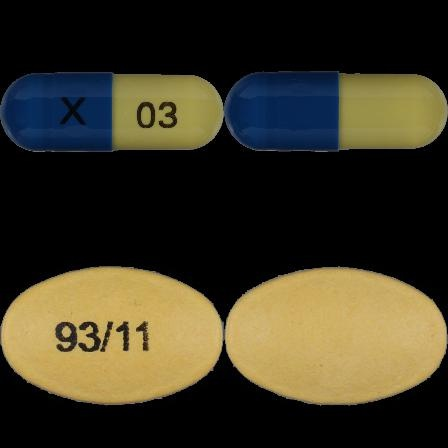68788-9262: (0, 0, 224, 224)
